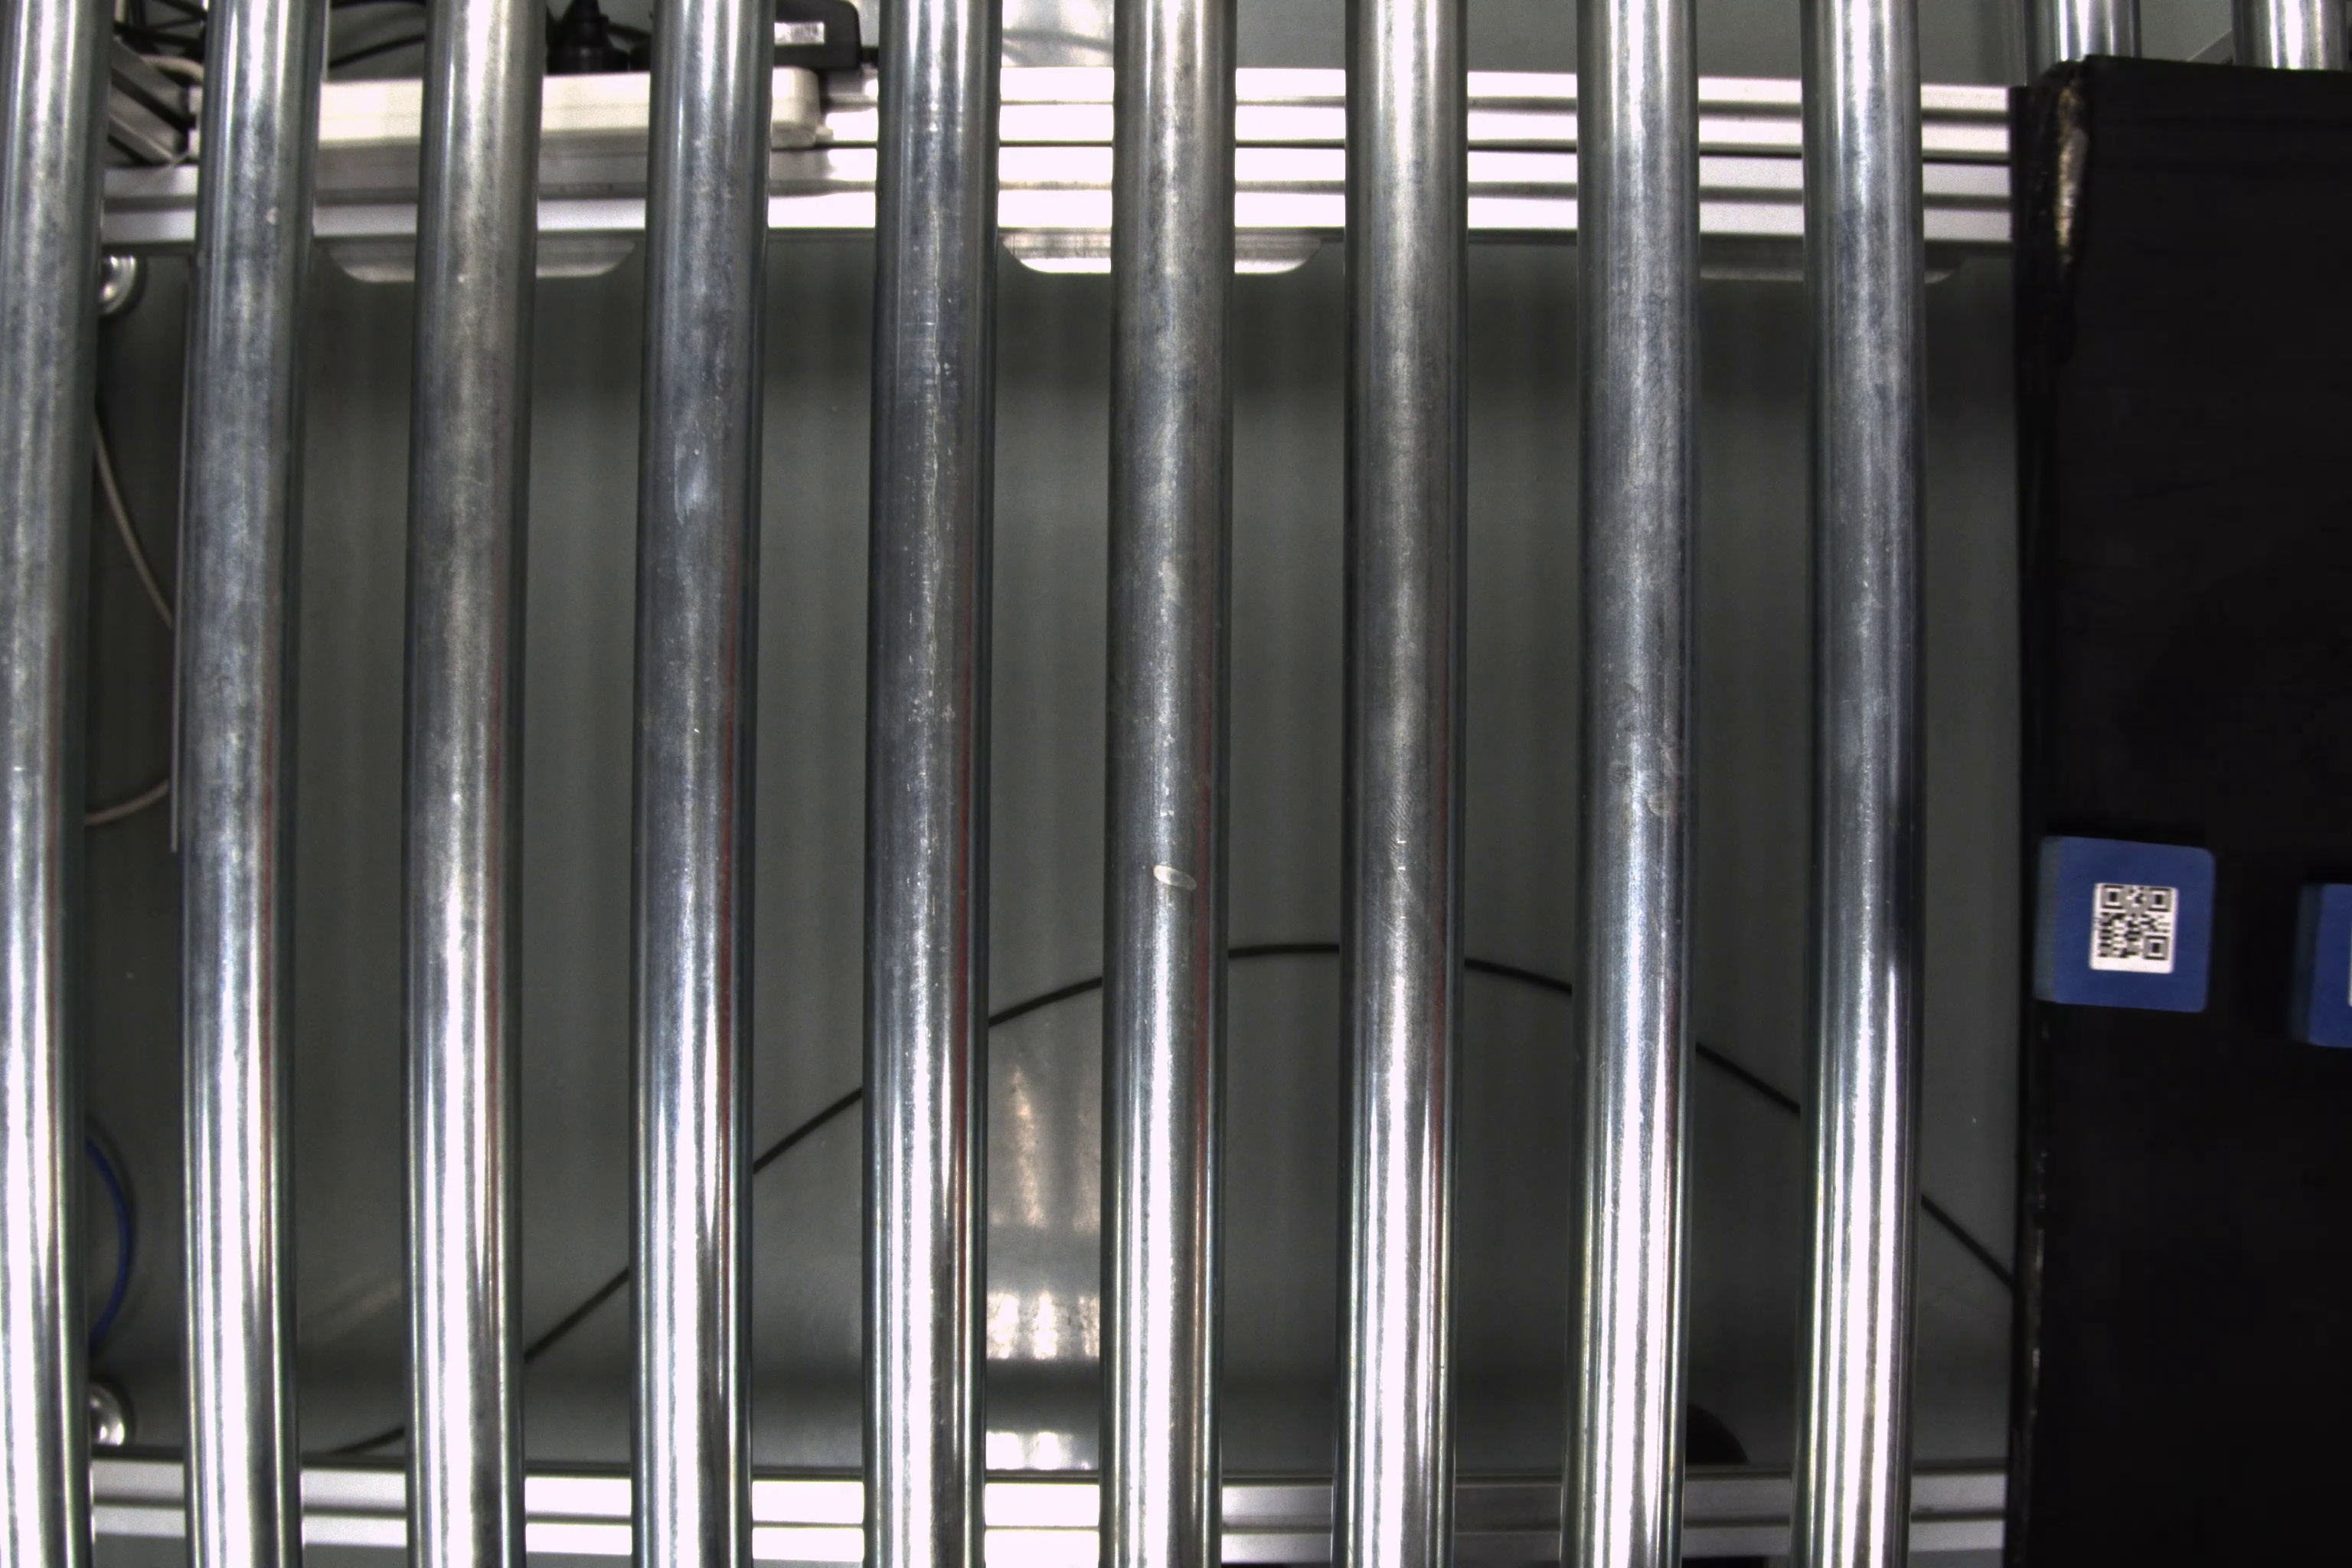wood: (2030, 826, 2217, 1011)
